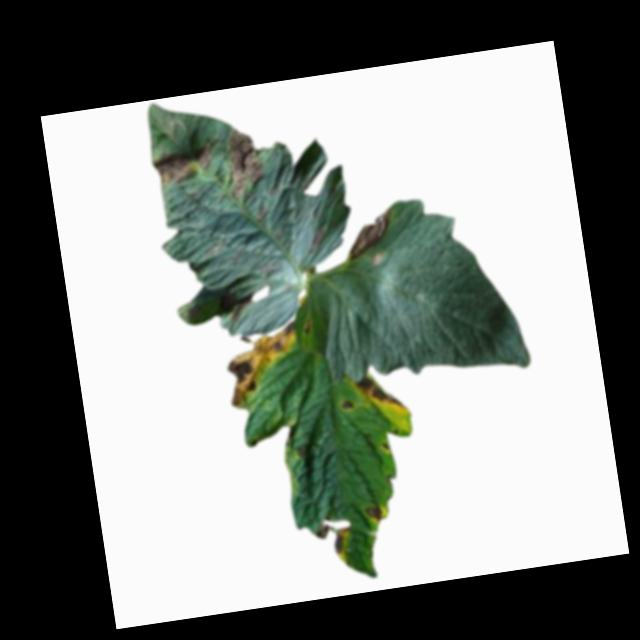Early_blight: (221, 319, 314, 409), (221, 126, 269, 204), (150, 142, 224, 192), (341, 204, 400, 265), (353, 370, 412, 416), (313, 520, 350, 560), (363, 502, 387, 526), (341, 399, 357, 415)
